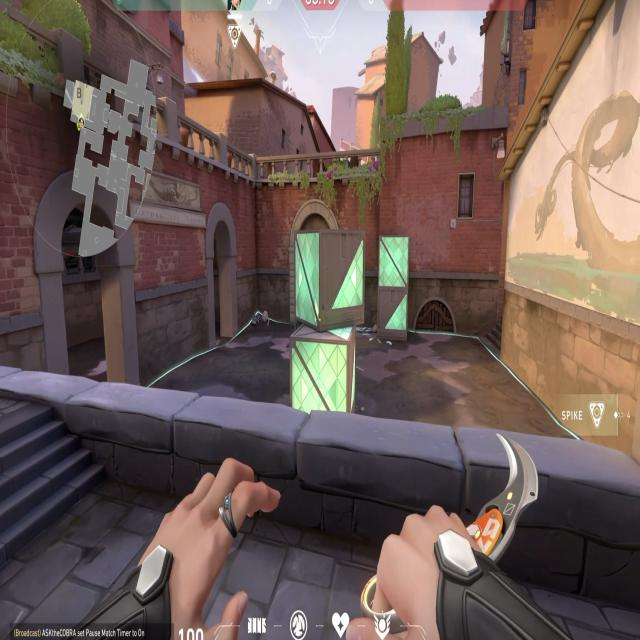B_Boathouse: (29, 169, 147, 391), (202, 192, 242, 351)
B_Site_Box: (281, 219, 368, 424)
